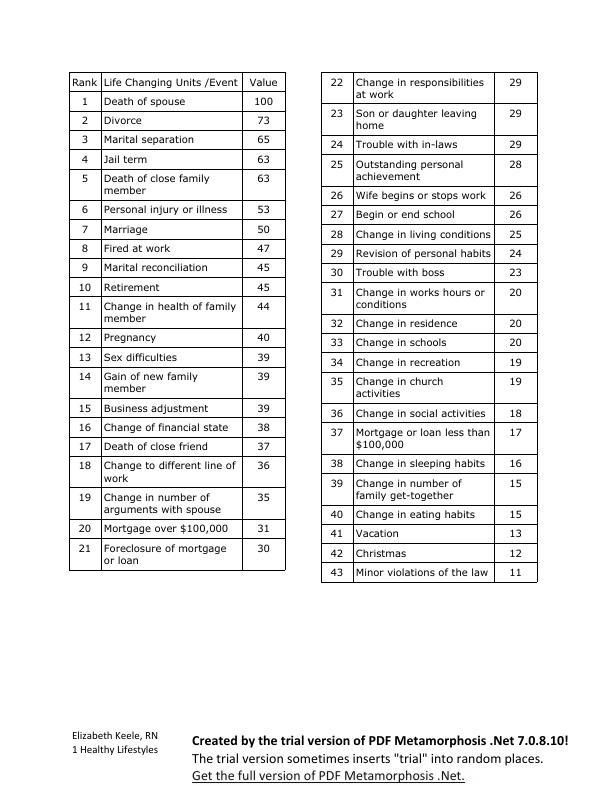table: (317, 66, 545, 589), (63, 69, 291, 576)
text: (186, 726, 576, 785), (67, 728, 163, 761)
